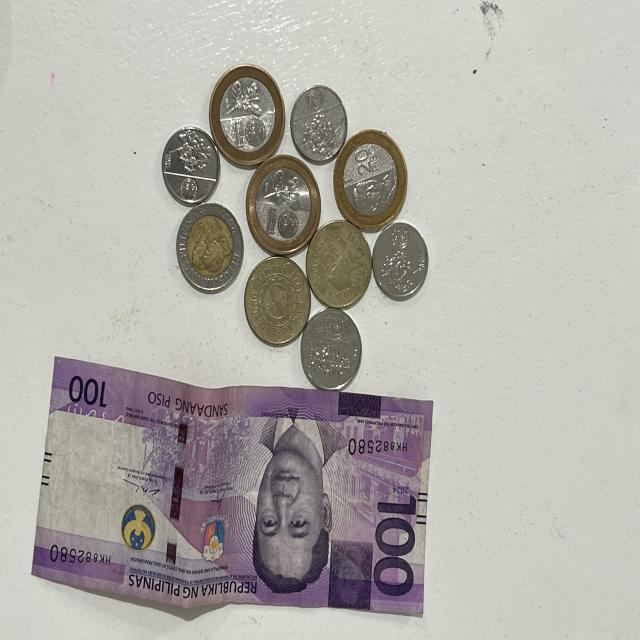10_Old_Front: (187, 213, 232, 276)
20_New_Back: (222, 79, 266, 128), (258, 167, 306, 210)
20_New_Front: (350, 145, 384, 182)
5_Old_Back: (254, 270, 302, 333)
5_Old_Front: (316, 242, 340, 277)
concealed_value: (330, 536, 372, 609)
security_thread: (164, 384, 191, 602)
see_through_mark: (64, 398, 126, 439)
serial_number: (44, 540, 113, 574), (346, 434, 415, 462)
watermark: (62, 419, 128, 534)
